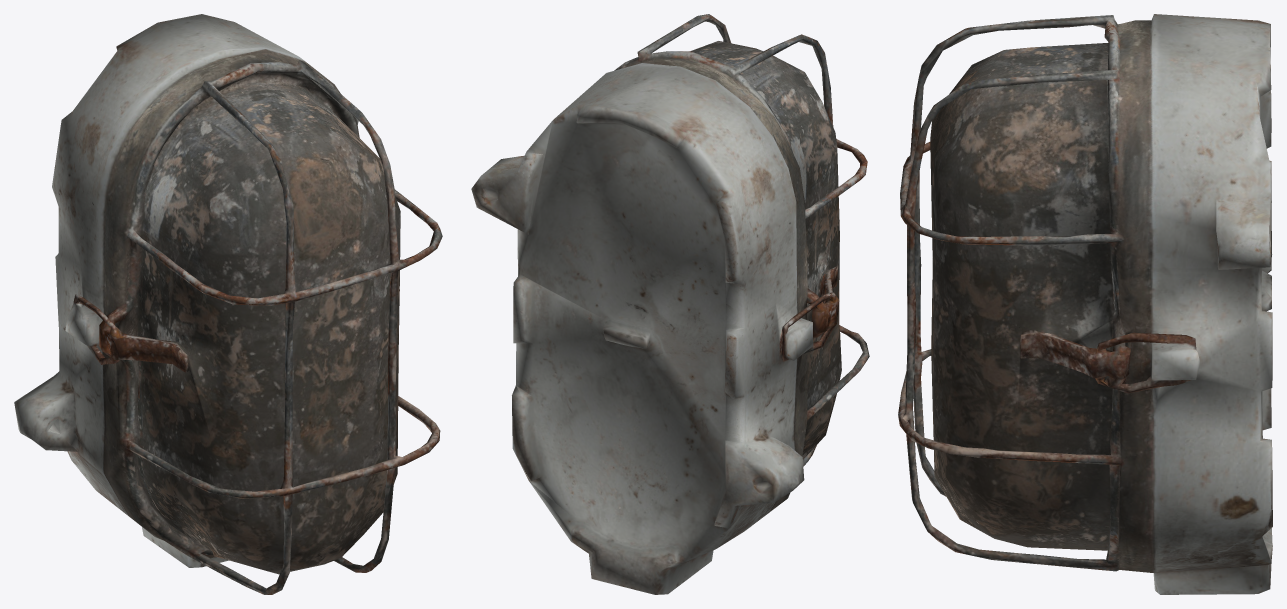
Rendered from rusty_bulkhead_light_vgyidfpaw_low.glb.
3 renders of one model, left to right at view 1: azimuth 30°, elevation 25°; view 2: azimuth 150°, elevation 25°; view 3: azimuth 270°, elevation 25°, orthographic. The views are drawn at different scales.
Parts seen in each view (by area): view 1: vgyidfpaw_LOD0_TIER3_000; view 2: vgyidfpaw_LOD0_TIER3_000; view 3: vgyidfpaw_LOD0_TIER3_000.
Boxes of the visible parts, x1,y1,x2,y2 form: vgyidfpaw_LOD0_TIER3_000: (14, 14, 442, 594); vgyidfpaw_LOD0_TIER3_000: (471, 14, 869, 594); vgyidfpaw_LOD0_TIER3_000: (898, 14, 1272, 594).
Bounding box in the file's own units: 0.1443 × 0.2136 × 0.1327.
Materials: 1 (1 with a texture image).
